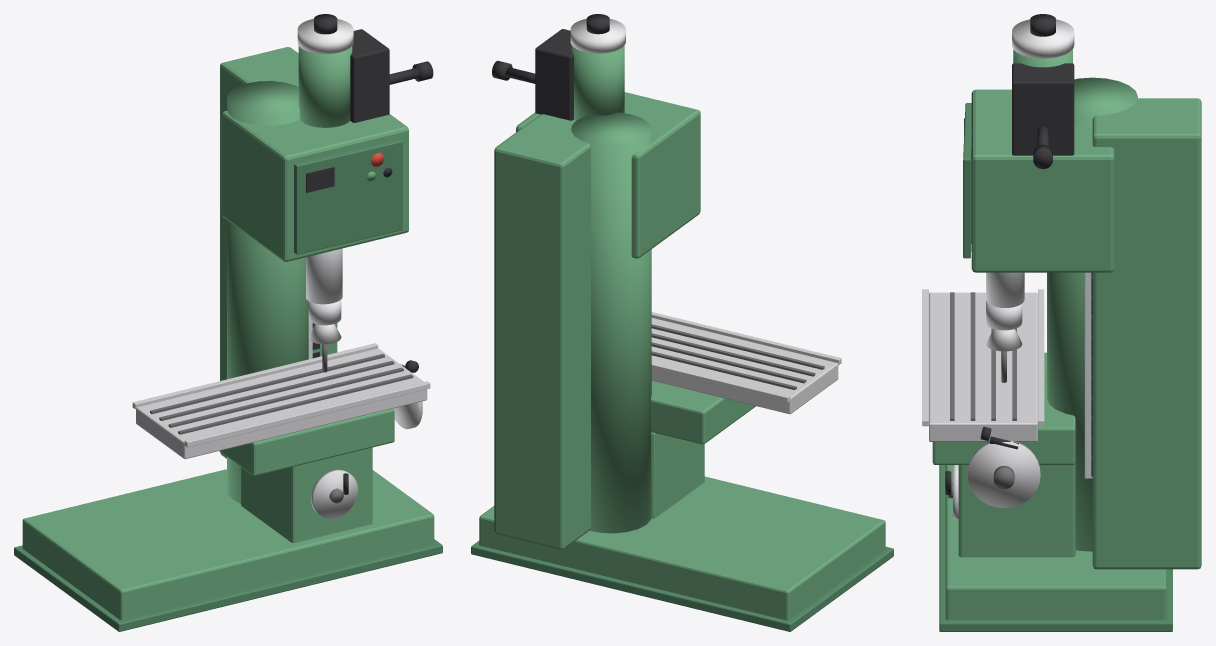
The model's file is Miling.glb.
3 views of the same model, side by side, from view 1: azimuth 30°, elevation 25°; view 2: azimuth 150°, elevation 25°; view 3: azimuth 270°, elevation 25° (orthographic). The views are drawn at different scales.
Parts seen in each view (by area): view 1: BasePlate, ColumnRoundEdge, HeadBody, TableTop, ControlPanel, Knee, Saddle, BaseFoot, Column, MotorHousing, BeltCover, TableEdgeFront (+10 smaller); view 2: Column, BasePlate, ColumnRoundEdge, HeadBody, TableTop, BaseFoot, Saddle, Knee, MotorHousing, BeltCover, MotorCapChrome, TableEdgeFront (+5 smaller); view 3: Column, HeadBody, BasePlate, TableTop, ColumnRoundEdge, Knee, BeltCover, BaseFoot, HandwheelX_Disc, Saddle, MotorCapChrome, RackRail (+12 smaller).
Boxes of the visible parts, left/top/right/bottom form: BasePlate: left=22, top=469, right=434, bottom=620; ColumnRoundEdge: left=227, top=81, right=308, bottom=503; HeadBody: left=221, top=110, right=408, bottom=261; TableTop: left=136, top=348, right=427, bottom=459; ControlPanel: left=294, top=139, right=402, bottom=254; Knee: left=241, top=447, right=372, bottom=542; Saddle: left=219, top=408, right=394, bottom=475; BaseFoot: left=14, top=539, right=442, bottom=631; Column: left=220, top=47, right=337, bottom=458; MotorHousing: left=298, top=46, right=352, bottom=127; BeltCover: left=350, top=29, right=389, bottom=122; TableEdgeFront: left=184, top=381, right=430, bottom=447; Column: left=494, top=114, right=592, bottom=549; BasePlate: left=479, top=476, right=885, bottom=620; ColumnRoundEdge: left=571, top=112, right=651, bottom=533; HeadBody: left=516, top=92, right=700, bottom=258; TableTop: left=651, top=318, right=838, bottom=414; BaseFoot: left=471, top=541, right=893, bottom=631; Saddle: left=651, top=380, right=755, bottom=444; Knee: left=651, top=432, right=704, bottom=518; MotorHousing: left=571, top=45, right=624, bottom=120; BeltCover: left=535, top=29, right=573, bottom=120; MotorCapChrome: left=570, top=18, right=625, bottom=53; TableEdgeFront: left=651, top=312, right=841, bottom=364; Column: left=1092, top=98, right=1201, bottom=569; HeadBody: left=971, top=89, right=1114, bottom=272; BasePlate: left=945, top=465, right=1166, bottom=620; TableTop: left=929, top=292, right=1037, bottom=441; ColumnRoundEdge: left=1047, top=77, right=1137, bottom=551; Knee: left=958, top=463, right=1075, bottom=557; BeltCover: left=1012, top=63, right=1074, bottom=155; BaseFoot: left=939, top=465, right=1172, bottom=631; HandwheelX_Disc: left=967, top=439, right=1040, bottom=508; Saddle: left=932, top=352, right=1075, bottom=464; MotorCapChrome: left=1012, top=19, right=1074, bottom=58; RackRail: left=1084, top=272, right=1092, bottom=478.
Bounding box in the file's own units: 1.76 × 2.44 × 1.07.
